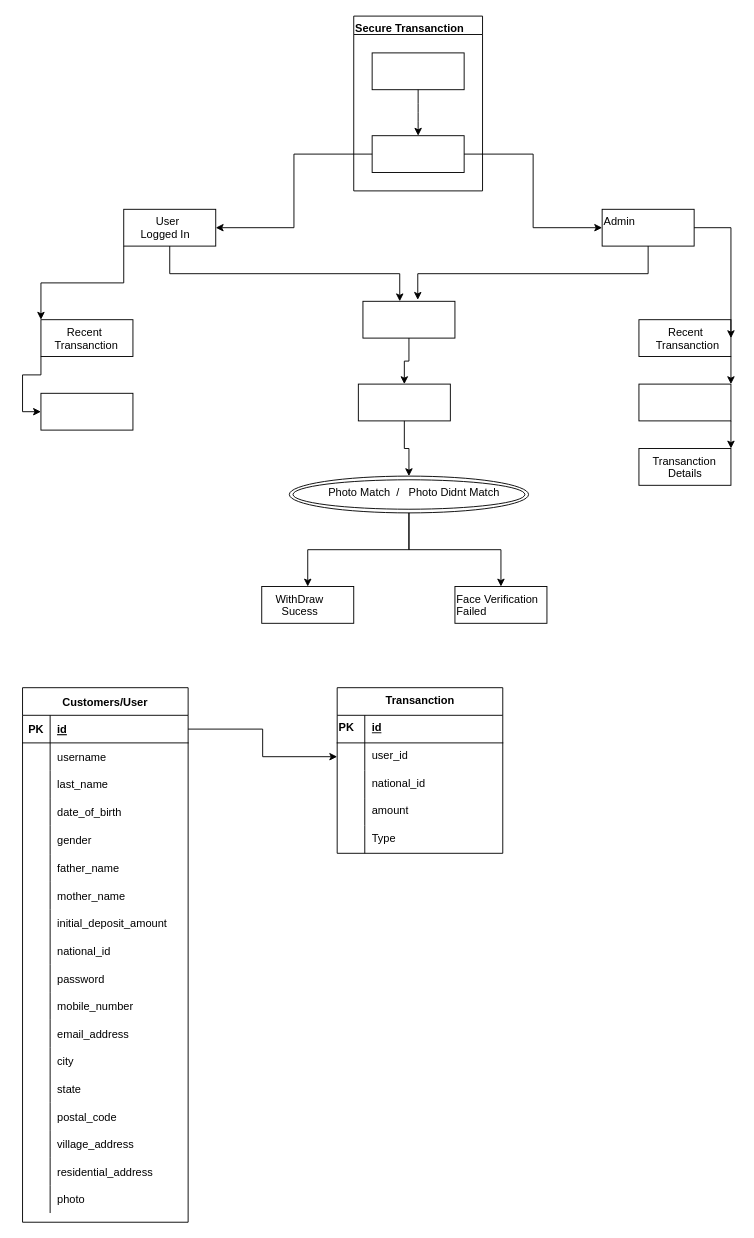
Some shapes in this 754 by 1238 pixel diagram are drawn without their labels. Here are the shapes that lost their labels. From the top down, the centre of each, then its label:
point (417, 71): Create User
point (417, 153): Login
point (408, 319): Deposit/WithDraw
point (86, 411): Balance
point (403, 402): Face-Verification For (Withdraw)
point (684, 402): cLient List
